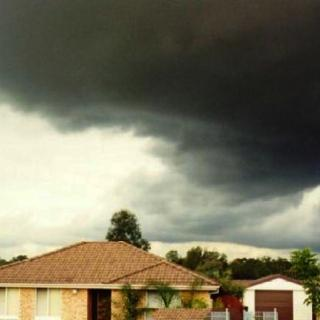Stratocumulus: (0, 0, 320, 246)
